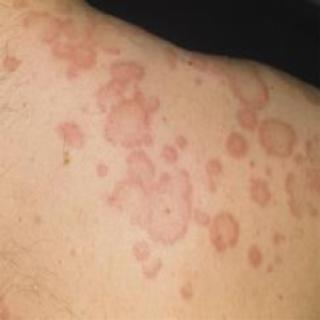urticaria: (107, 156, 198, 234), (107, 47, 164, 143), (17, 12, 100, 69), (128, 240, 199, 302), (278, 166, 319, 230), (227, 63, 281, 111), (204, 210, 245, 248), (55, 117, 94, 151), (261, 121, 298, 156), (240, 240, 268, 276), (246, 176, 276, 205), (220, 136, 254, 158), (3, 47, 25, 75), (206, 152, 225, 179), (234, 116, 255, 136)
